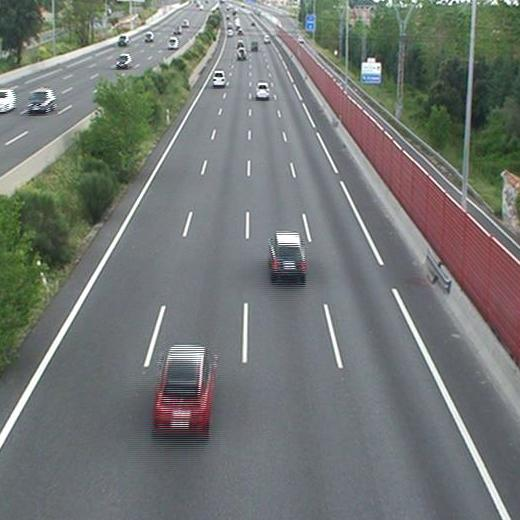car: (155, 345, 213, 428), (269, 234, 306, 276), (256, 83, 269, 98), (212, 71, 225, 86), (237, 48, 246, 59)
